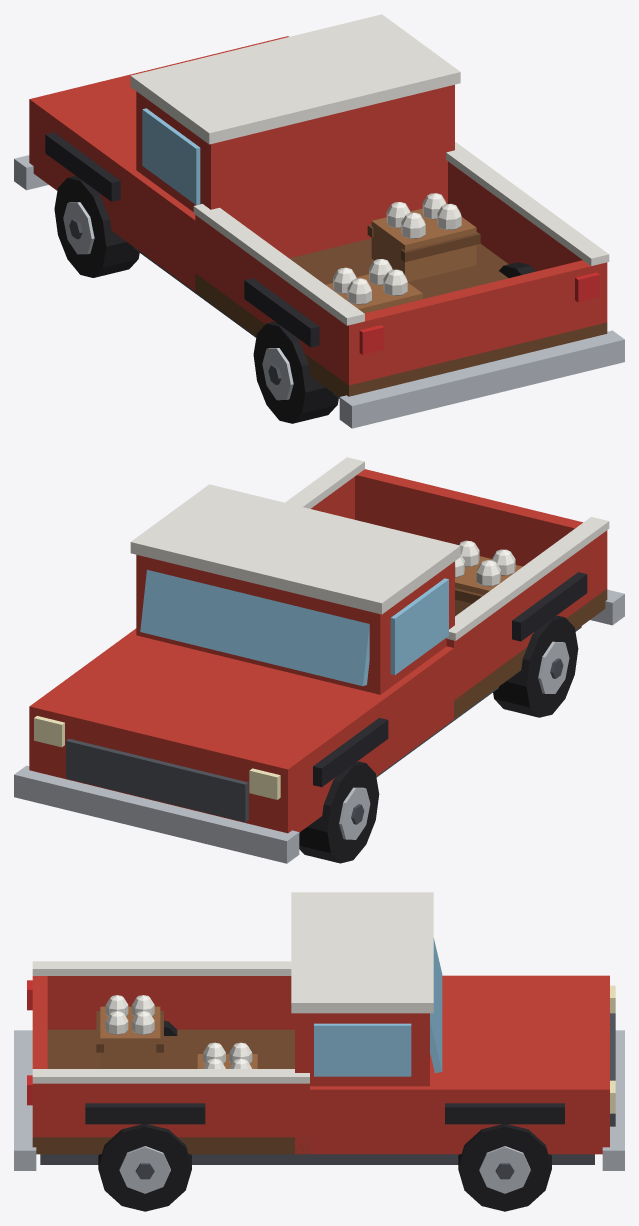
File: FarmPickup.fbx
The picture shows the model from 3 angles, top to bottom: view 1: azimuth 30°, elevation 25°; view 2: azimuth 150°, elevation 25°; view 3: azimuth 270°, elevation 25°; orthographic projection. The views are drawn at different scales.
Visible parts, largest first — view 1: FarmPickup; view 2: FarmPickup; view 3: FarmPickup.
Part boxes in pixels (left/top/right/bottom): FarmPickup: left=14, top=14, right=624, bottom=428; FarmPickup: left=14, top=457, right=624, bottom=863; FarmPickup: left=14, top=892, right=624, bottom=1211.
Bounding box in the file's own units: 222 × 168 × 456.
